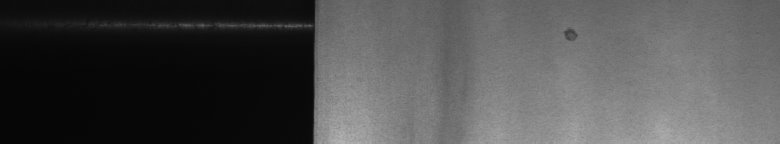fi: (559, 22, 580, 48)
